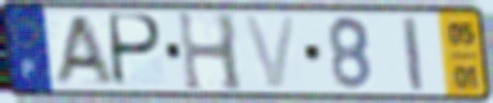8: (326, 14, 374, 93)
A: (49, 13, 116, 88)
H: (174, 9, 247, 95)
I: (399, 14, 427, 94)
P: (108, 11, 166, 90)
V: (240, 13, 300, 91)
